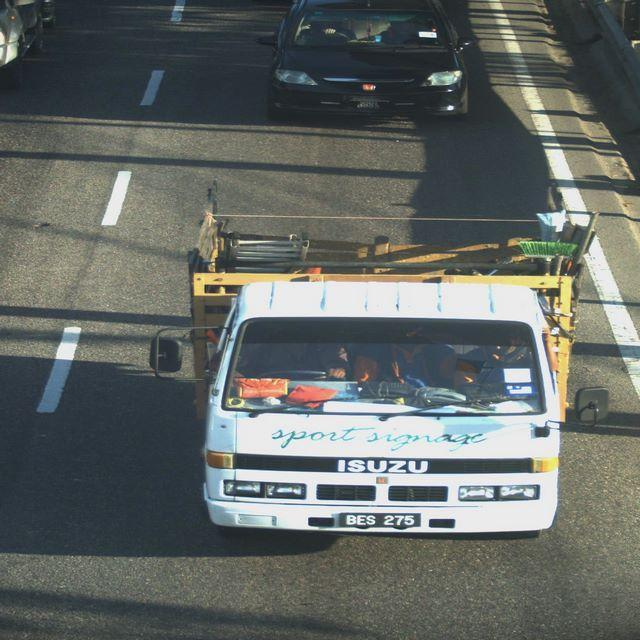License_Plate: (336, 508, 427, 534)
lorry: (147, 185, 618, 542)
